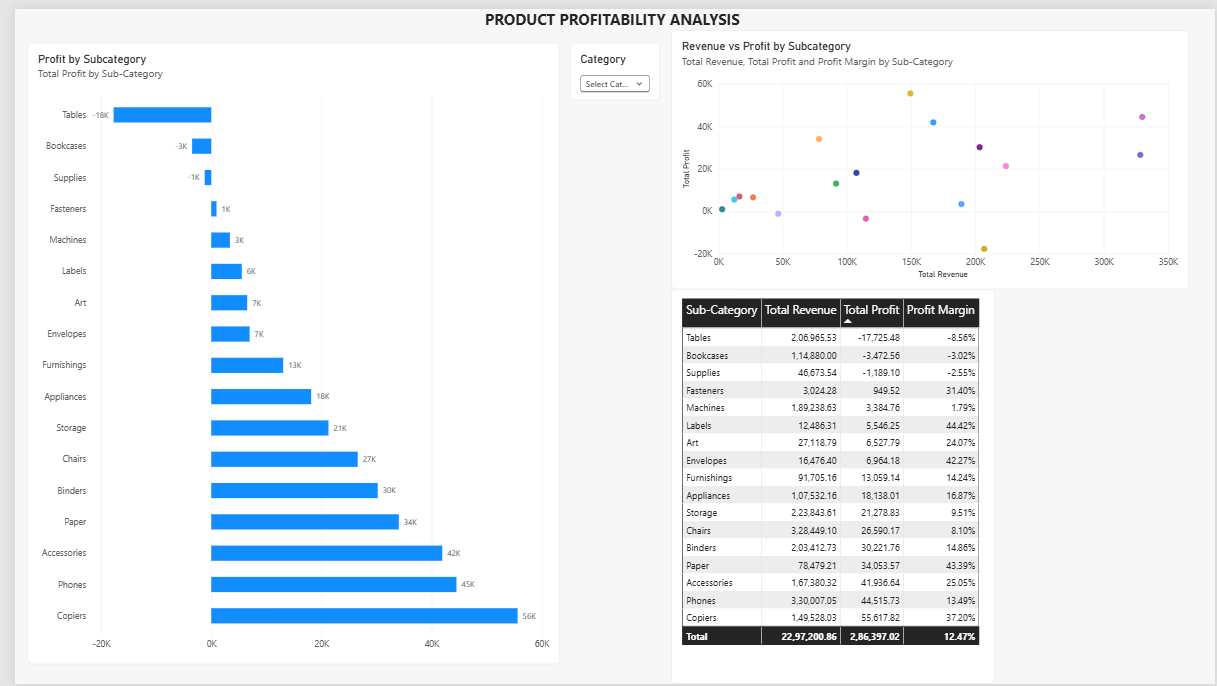

This screenshot's page, from the dashboard's own definition file:
{"tool":"powerbi","page":{"name":"Product Profitability","canvas":[1920,1080],"ordinal":1},"visuals":[{"type":"textbox","box":[752.9,0,464.7,54.9],"z":0},{"type":"clusteredBarChart","title":"Profit by Subcategory","fields":{"Category":["public sample.Sub-Category"],"Y":["public sample.Total Profit"]},"box":[20,54,852,994],"z":1000},{"type":"scatterChart","title":"Revenue vs Profit by Subcategory","fields":{"Series":["public sample.Sub-Category"],"X":["public sample.Total Revenue"],"Y":["public sample.Total Profit"]},"box":[1050,34,828,414],"z":2000},{"type":"tableEx","fields":{"Values":["public sample.Sub-Category","public sample.Total Revenue","public sample.Total Profit","public sample.Profit Margin"]},"box":[1050,448,518,632],"z":3000},{"type":"listSlicer","fields":{"Values":["public sample.Category"]},"box":[888,54,144,92],"z":4000}]}

Visuals, with their boxes in screenshot pixels (x1, y1, x2, y2), scaled from the page's 1920x1080 canvas onto the 1217x686 screenshot:
textbox: (477,0,772,35)
"Profit by Subcategory" clusteredBarChart: (13,34,553,666)
"Revenue vs Profit by Subcategory" scatterChart: (666,22,1190,285)
tableEx - public sample.Sub-Category x public sample.Total Revenue: (666,285,994,685)
listSlicer - public sample.Category: (563,34,654,93)
